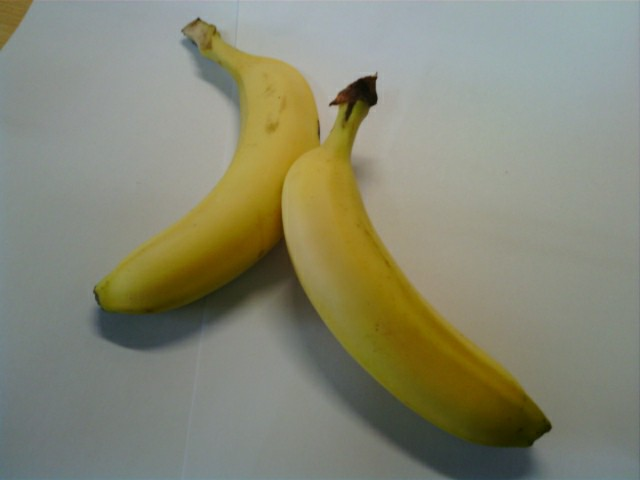fresh_banana: (277, 136, 558, 450), (92, 51, 319, 316)
